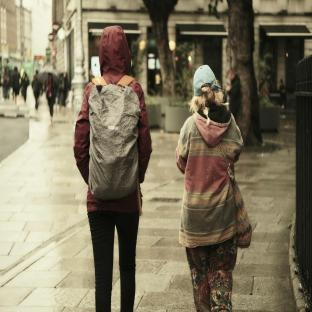Human: (74, 26, 152, 312), (176, 65, 243, 312)
